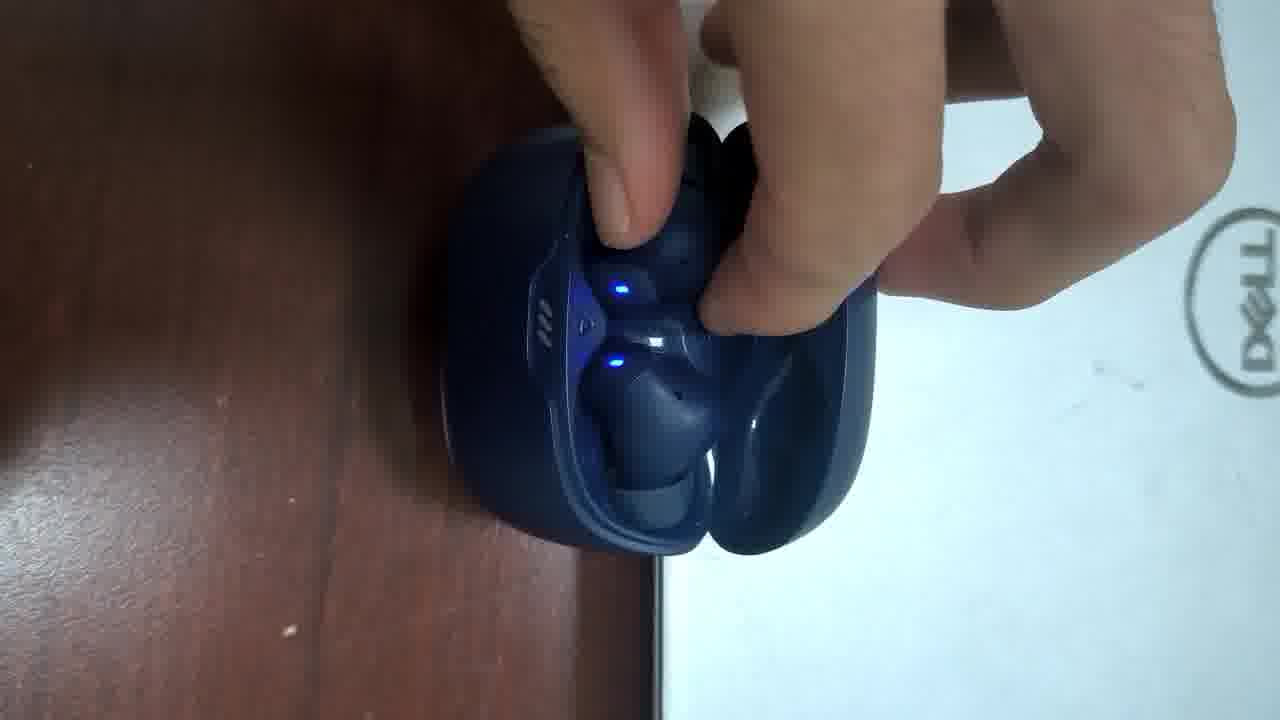Earbud: (581, 340, 719, 490)
